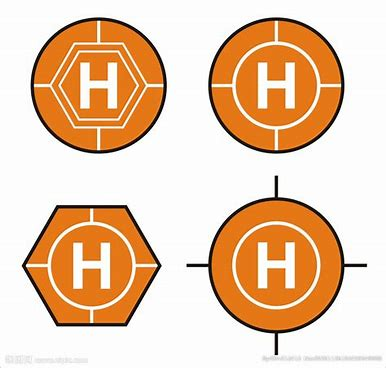H: (79, 63, 118, 109), (257, 63, 296, 109), (72, 242, 110, 289), (258, 242, 295, 290)
